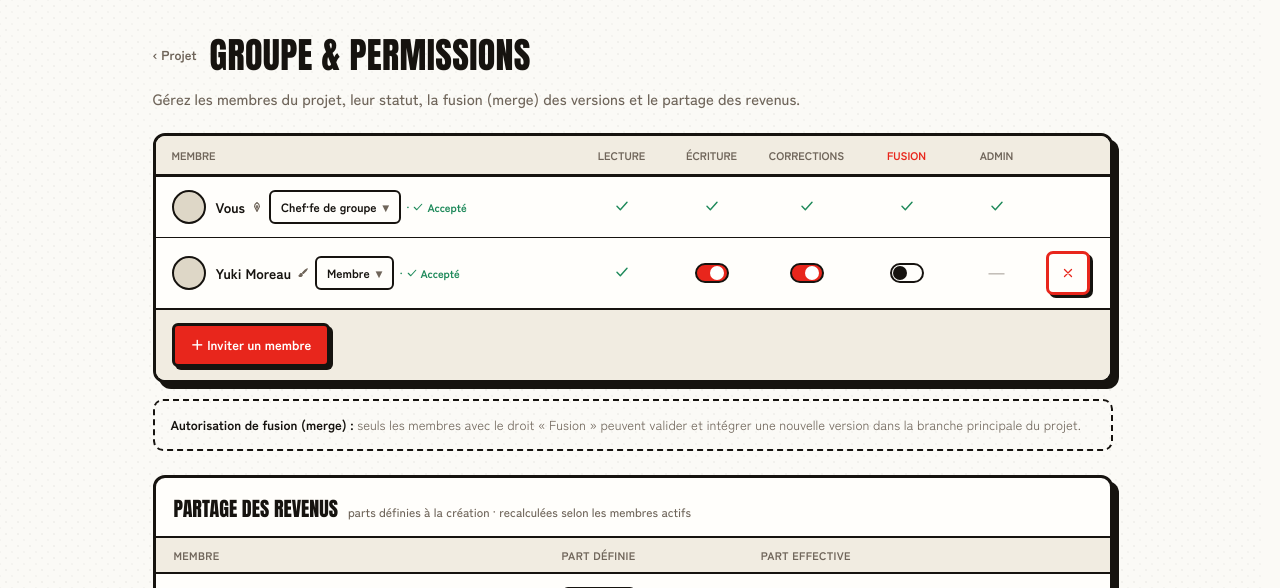
Scenario: GroupePermissionsClient — revoke & role › renders the server error message when a mutation is rejected
Click the switch named "Fusion — Yuki Moreau": (906, 273) x1=884 y1=251 x2=928 y2=295
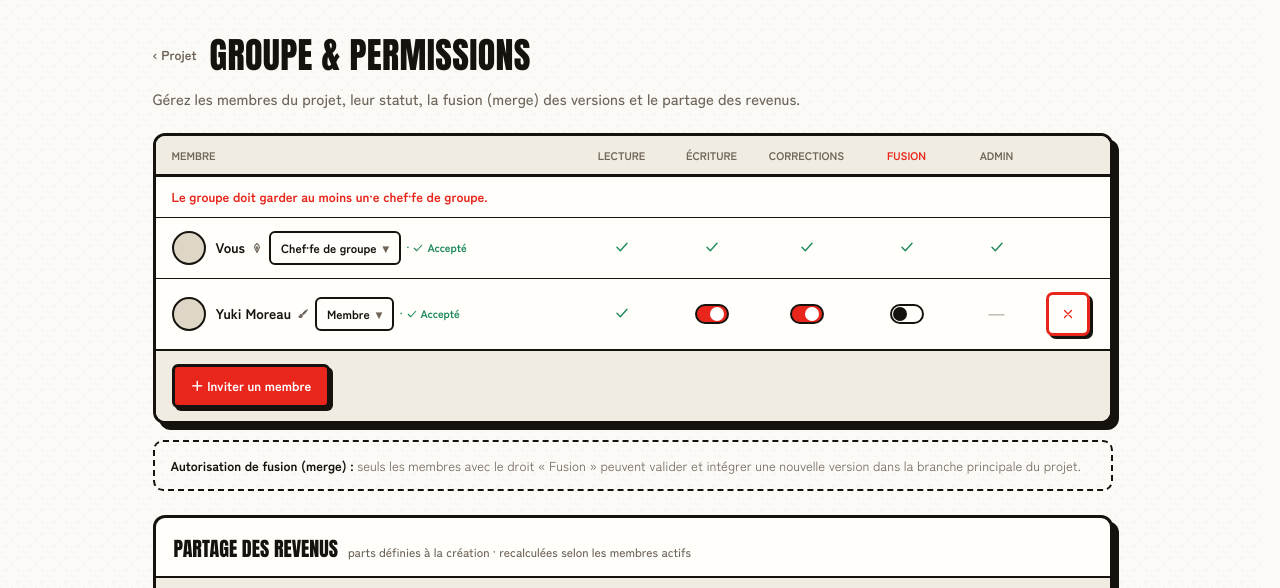
Check: the text "Le groupe doit garder au moins un·e chef·fe de groupe." is shown, box x1=156 y1=177 x2=1110 y2=218
